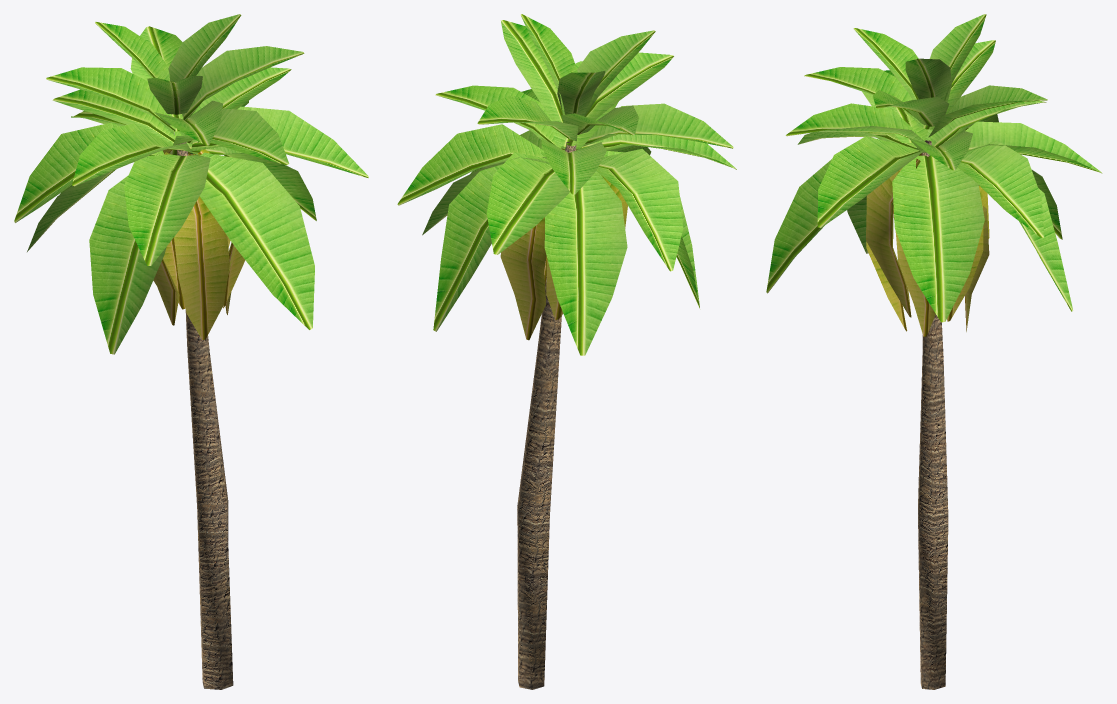
The model's file is VEG0210003.fbx.
3 views of the same model, side by side, from view 1: azimuth 30°, elevation 25°; view 2: azimuth 150°, elevation 25°; view 3: azimuth 270°, elevation 25° (orthographic). The views are drawn at different scales.
Visible parts, largest first — view 1: smVEG0210003; view 2: smVEG0210003; view 3: smVEG0210003.
Part boxes in pixels (box(x1,y1,x2,y2)): smVEG0210003: box(14, 14, 368, 689); smVEG0210003: box(397, 14, 736, 689); smVEG0210003: box(766, 14, 1102, 689).
Bounding box in the file's own units: 234 × 536 × 258.
Materials: 1 (1 with a texture image).
